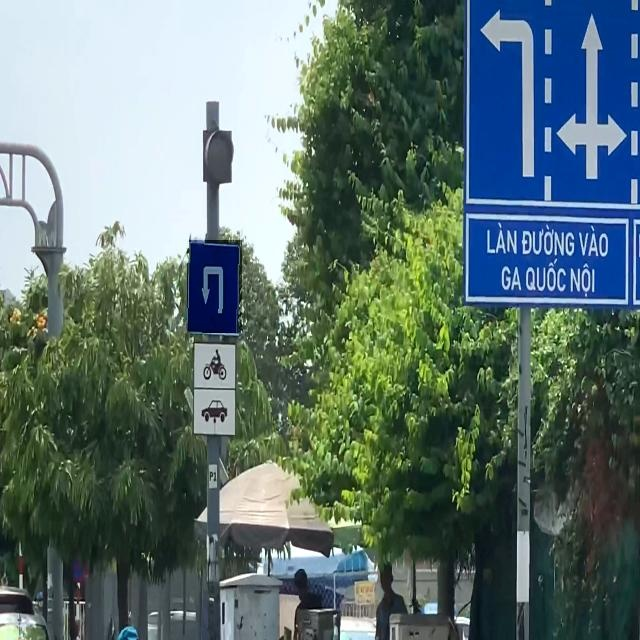bien_chi_dan: (187, 240, 242, 333)
